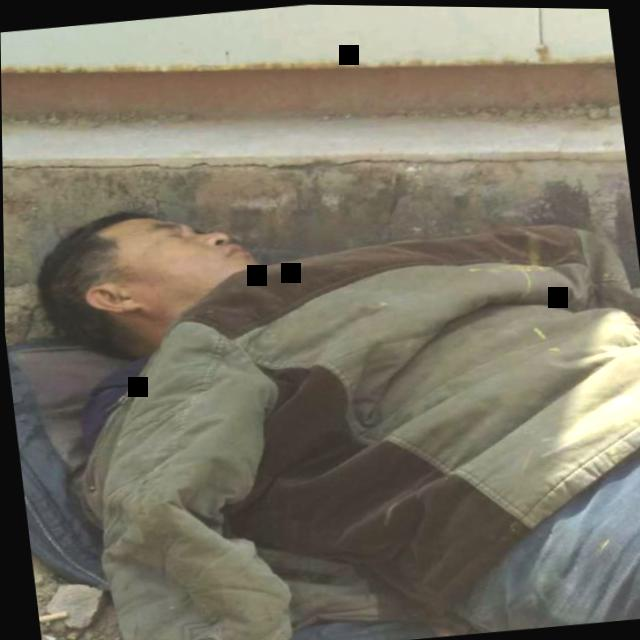Fall-Detected: (2, 151, 640, 640)
